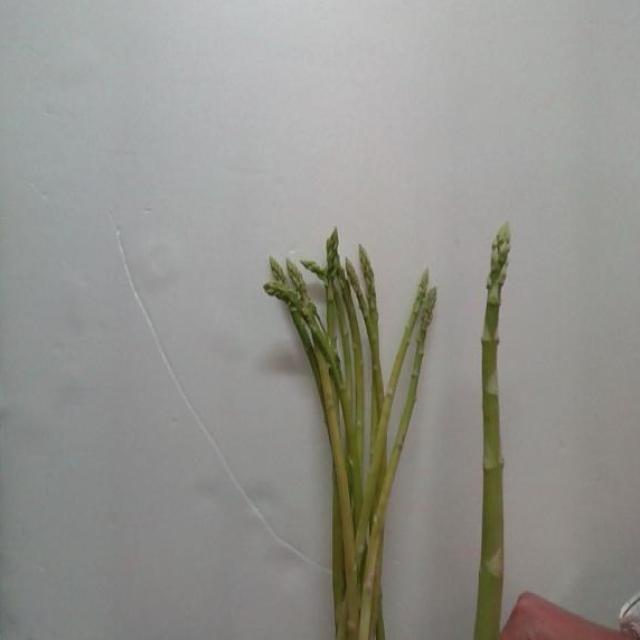aspargus: (473, 224, 510, 640)
